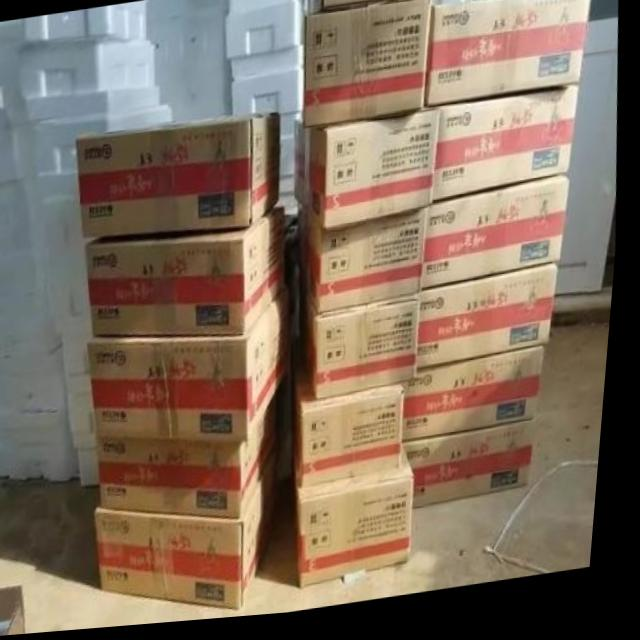box: (92, 287, 300, 445), (102, 443, 288, 615), (87, 206, 290, 339), (78, 116, 282, 241), (104, 390, 288, 523), (425, 0, 591, 112), (296, 112, 442, 235), (301, 450, 422, 594), (436, 93, 582, 209), (304, 3, 433, 132), (427, 184, 574, 297), (423, 274, 564, 377), (300, 361, 410, 492), (308, 284, 428, 403), (405, 355, 551, 450), (302, 212, 431, 317), (409, 427, 543, 515), (0, 584, 36, 637), (323, 0, 438, 14)
